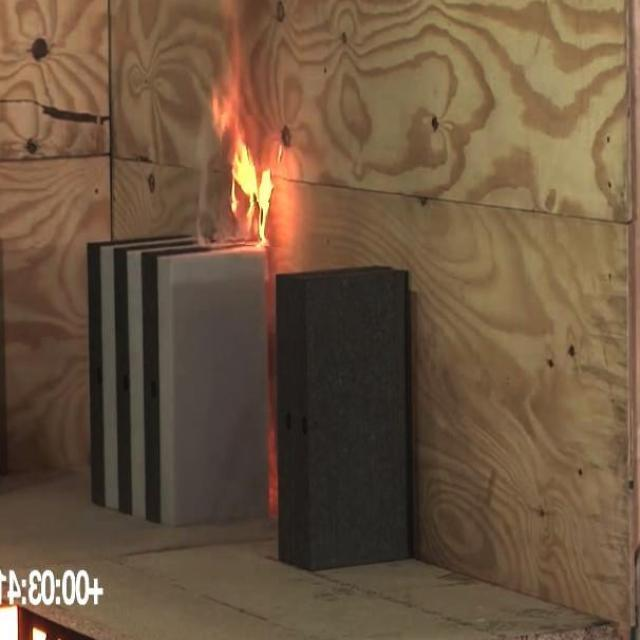smoke: (221, 115, 288, 248)
